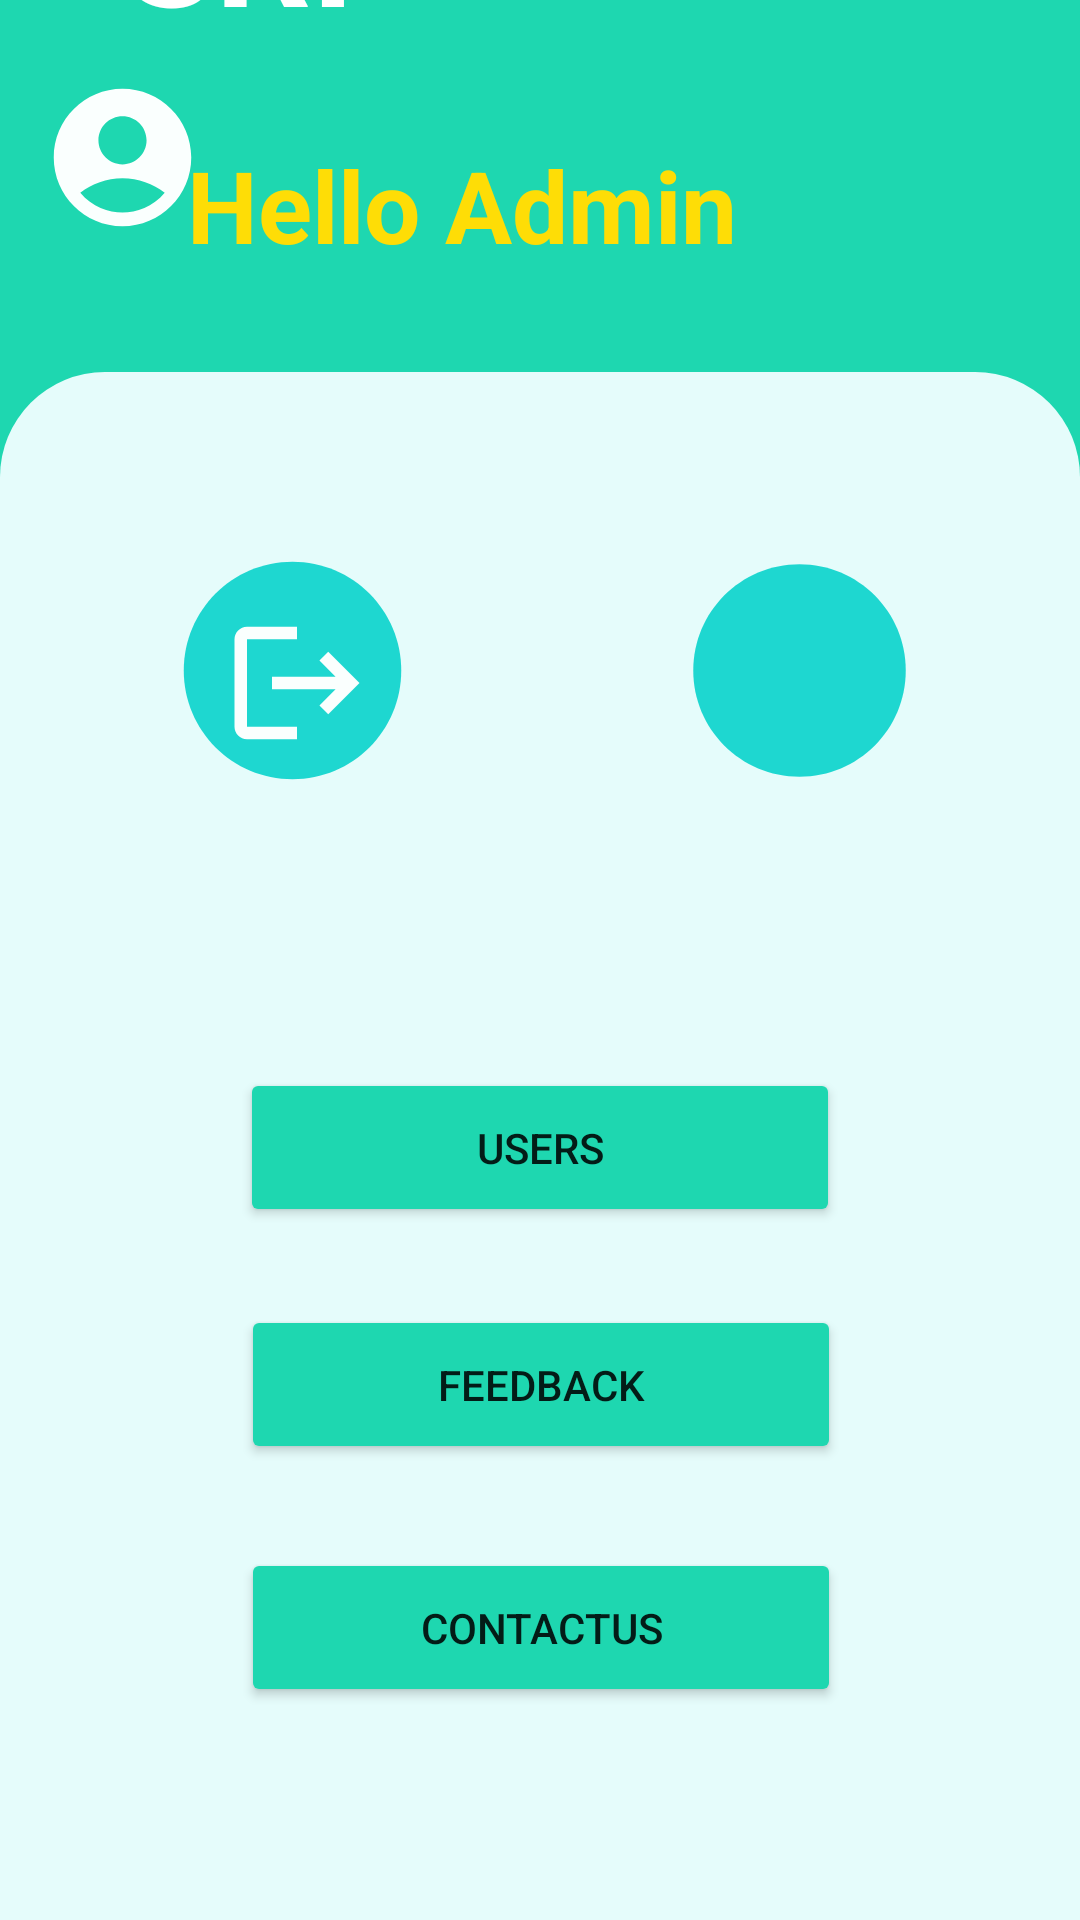

Icon click points for this 1080x1920 phone screenshot, format point (x, y):
user profile: point (122, 157)
